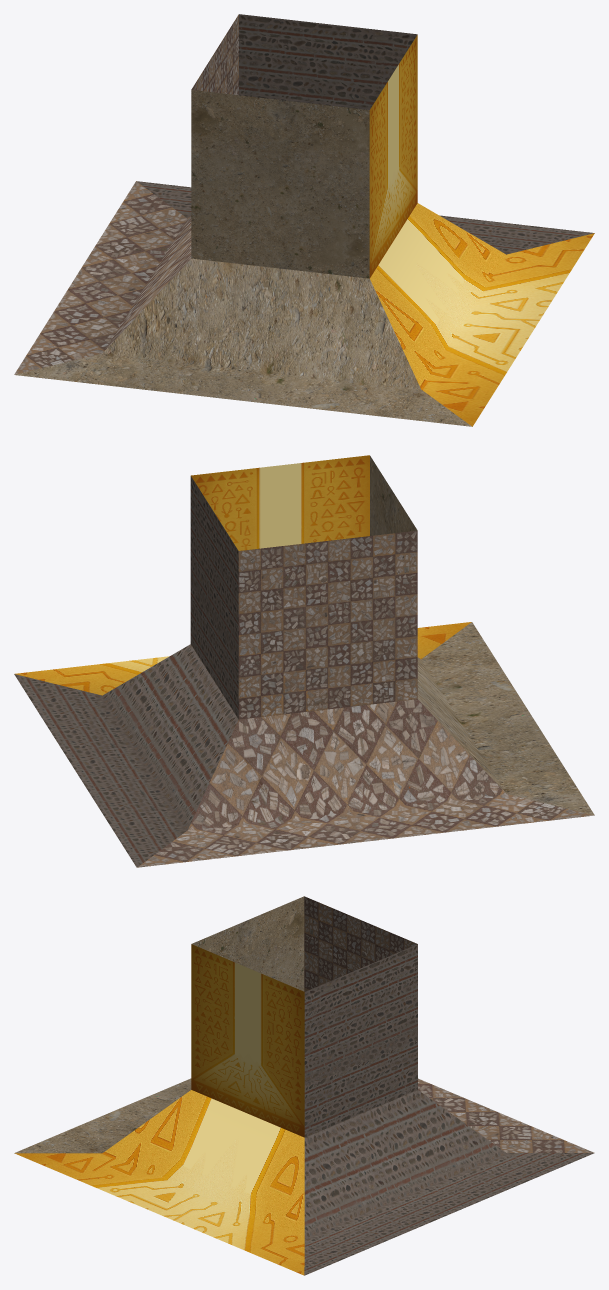
The model's file is roof_mid.fbx.
3 renders of one model, top to bottom at view 1: azimuth 30°, elevation 25°; view 2: azimuth 150°, elevation 25°; view 3: azimuth 270°, elevation 25°, orthographic. The views are drawn at different scales.
Visible parts, largest first — view 1: mid_roof; view 2: mid_roof; view 3: mid_roof.
Boxes of the visible parts, bbox=[...] form: mid_roof: bbox=[14, 14, 594, 426]; mid_roof: bbox=[14, 455, 594, 867]; mid_roof: bbox=[14, 896, 594, 1275].
Bounding box in the file's own units: 2399 × 954 × 2402.
